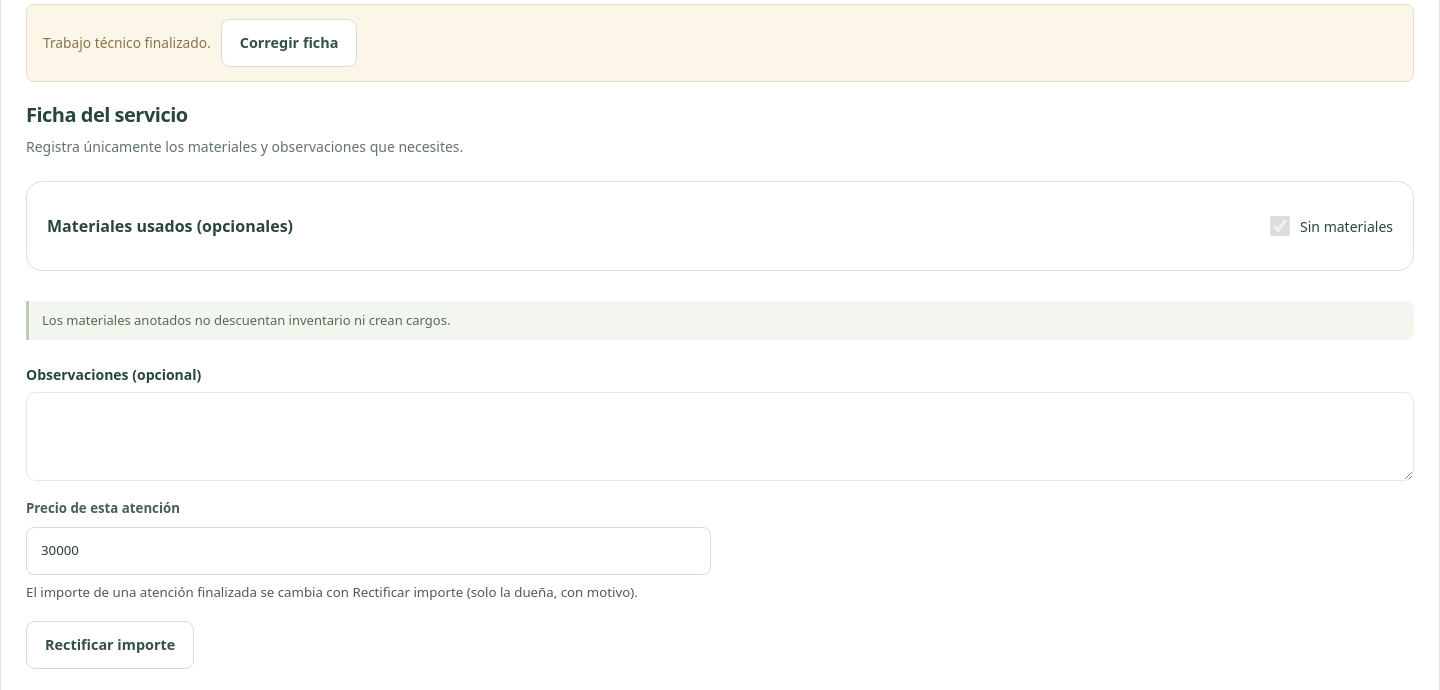
Scenario: bloquea el precio de una atención valorada incluso al corregir la ficha
The width and height of the screenshot is (1440, 690).
Expected: the text box labelled "Observaciones (opcional)" is shown, left=26, top=392, right=1414, bottom=481
Click the button "Corregir ficha" at point(289, 43), box left=221, top=19, right=357, bottom=67
(page scrolled)
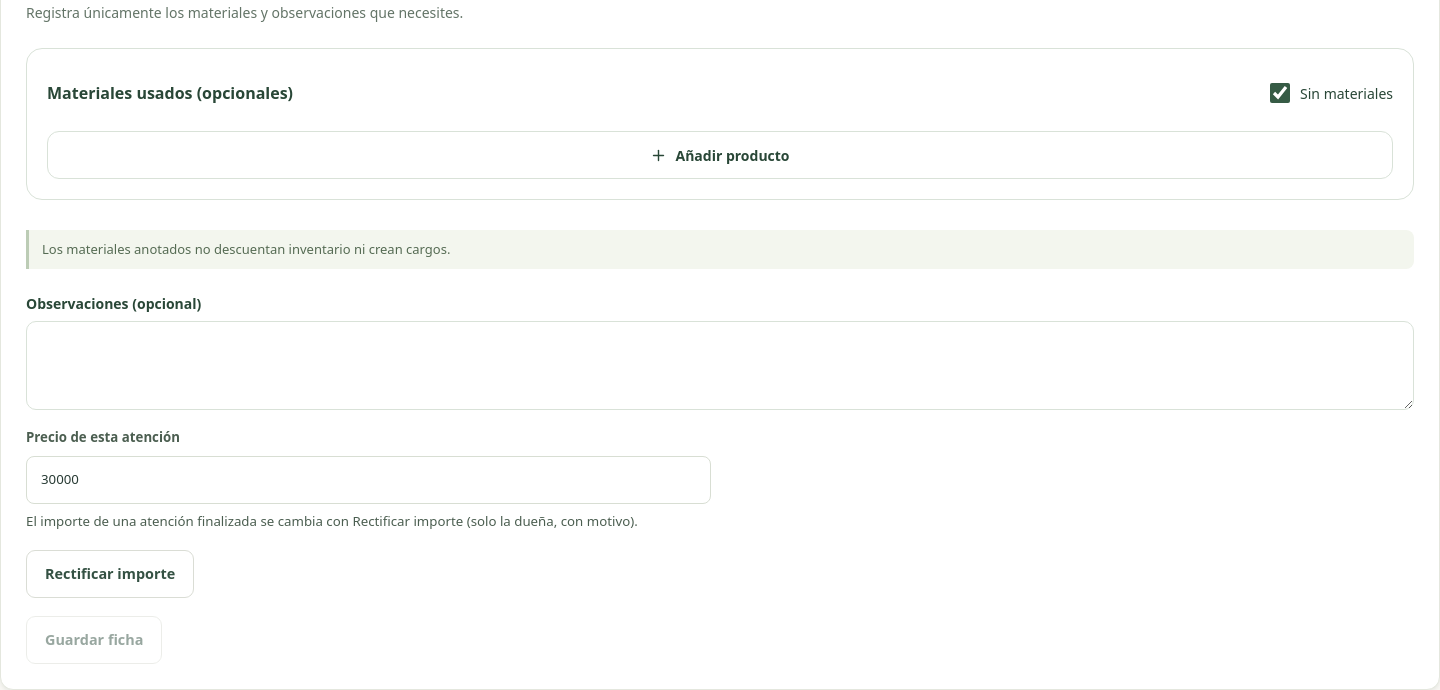
Expected: the number field labelled "Precio de esta atención" is disabled, left=26, top=456, right=711, bottom=504
Click the button "Rectificar importe" at point(110, 574), box left=26, top=550, right=194, bottom=598
(page scrolled)
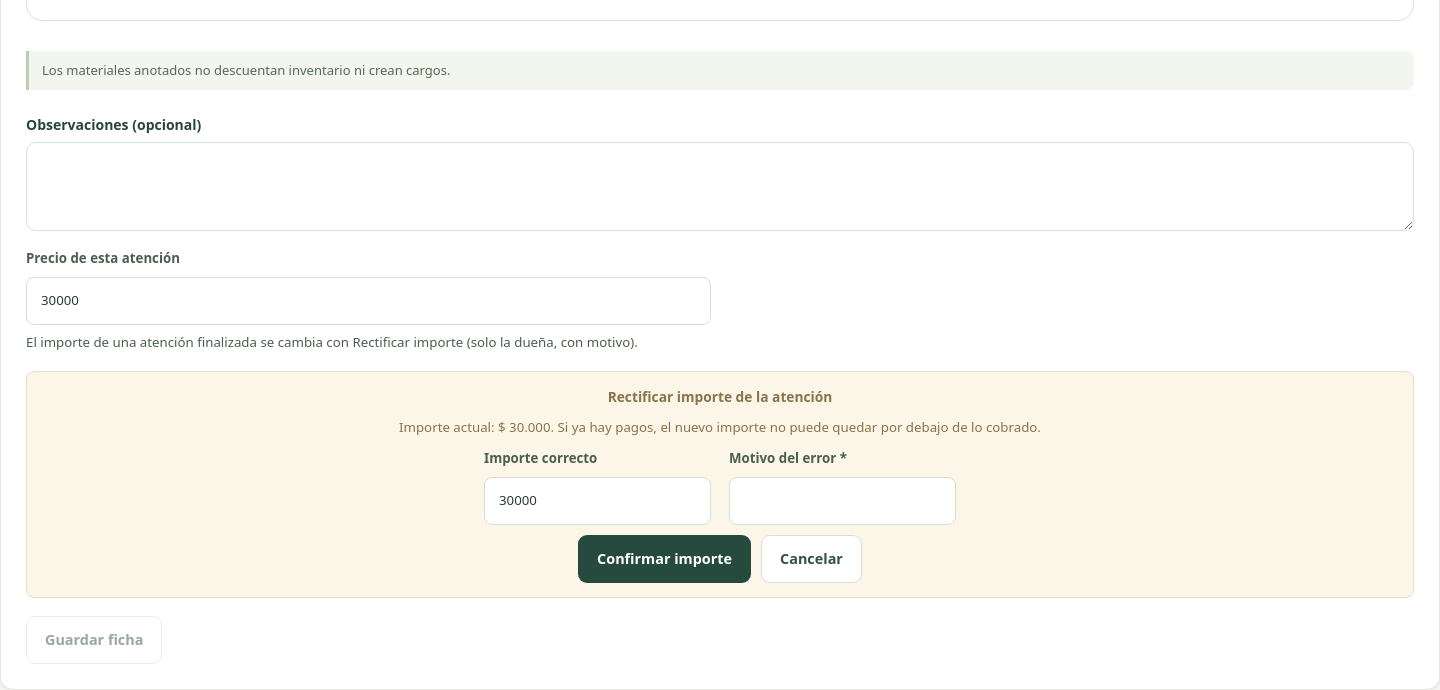
Result: the number field labelled "Importe correcto" holds "30000" at left=484, top=477, right=711, bottom=525
